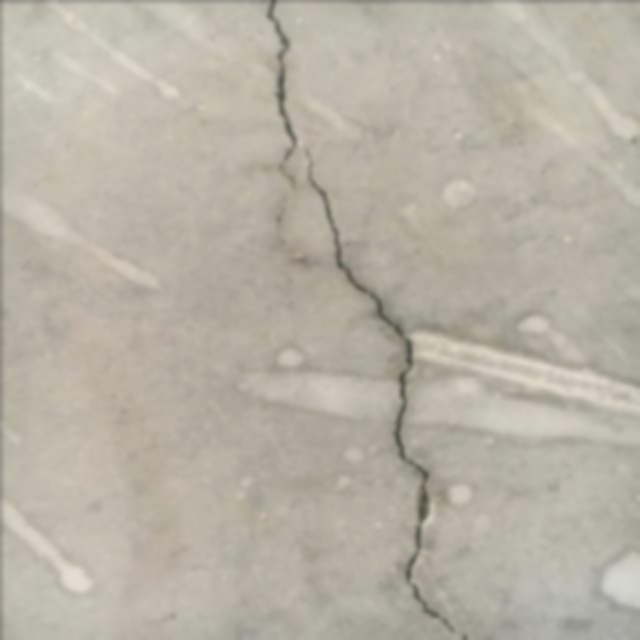SurfaceCrack: (232, 0, 502, 639)
